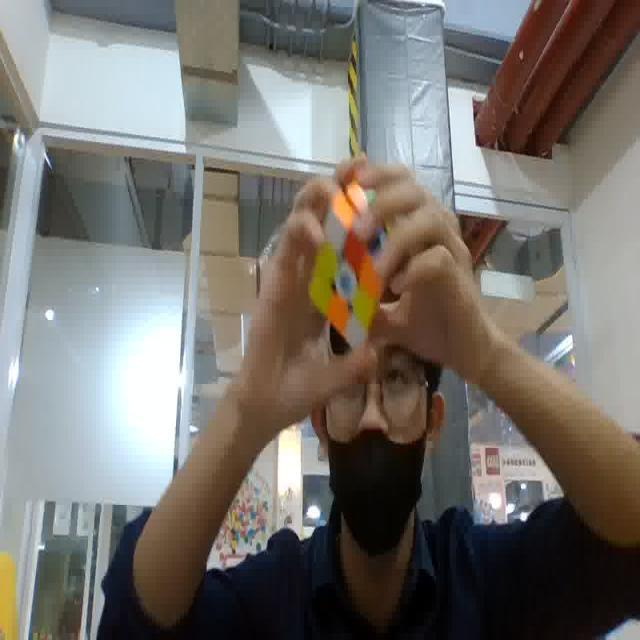Rub: (306, 190, 400, 347)
